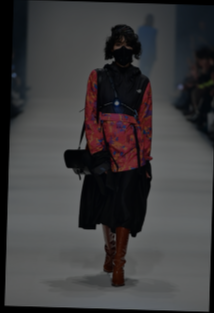with_mask: (112, 38, 134, 65)
